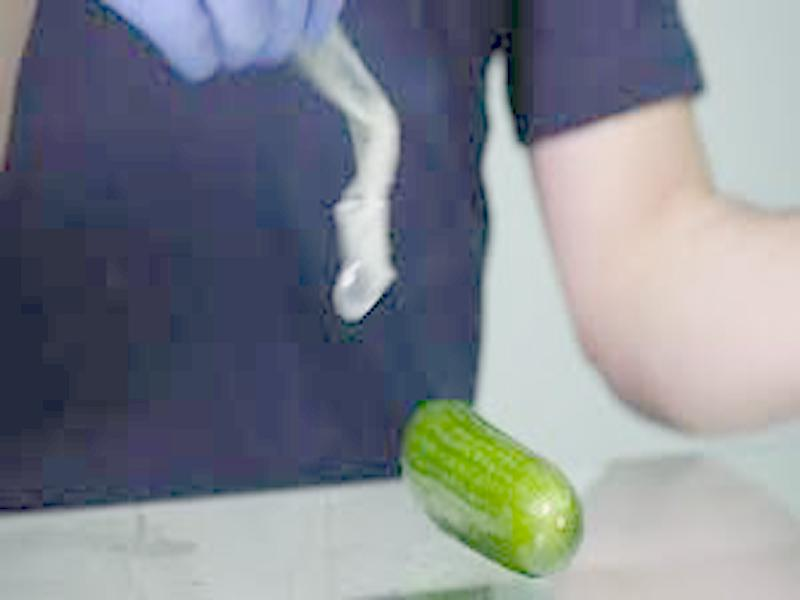Cucumber: (403, 400, 584, 579)
